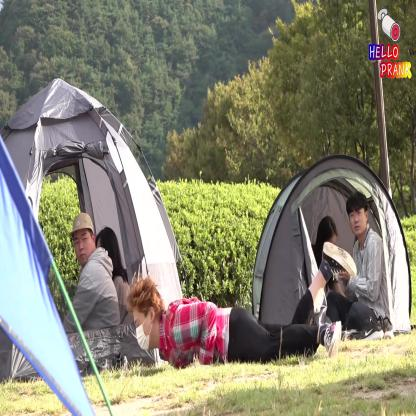Fall_Down: (129, 235, 358, 368)
